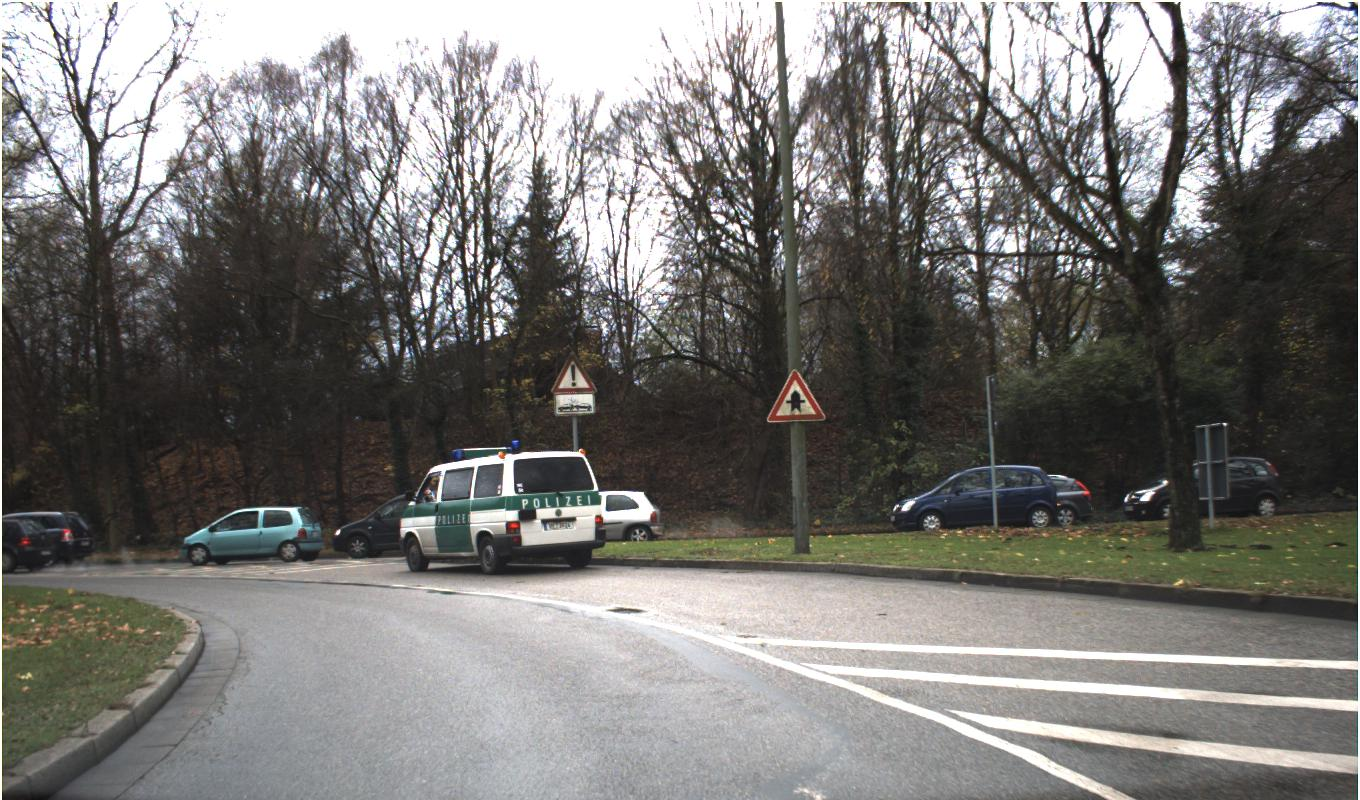danger: (765, 368, 827, 422), (549, 348, 597, 393)
